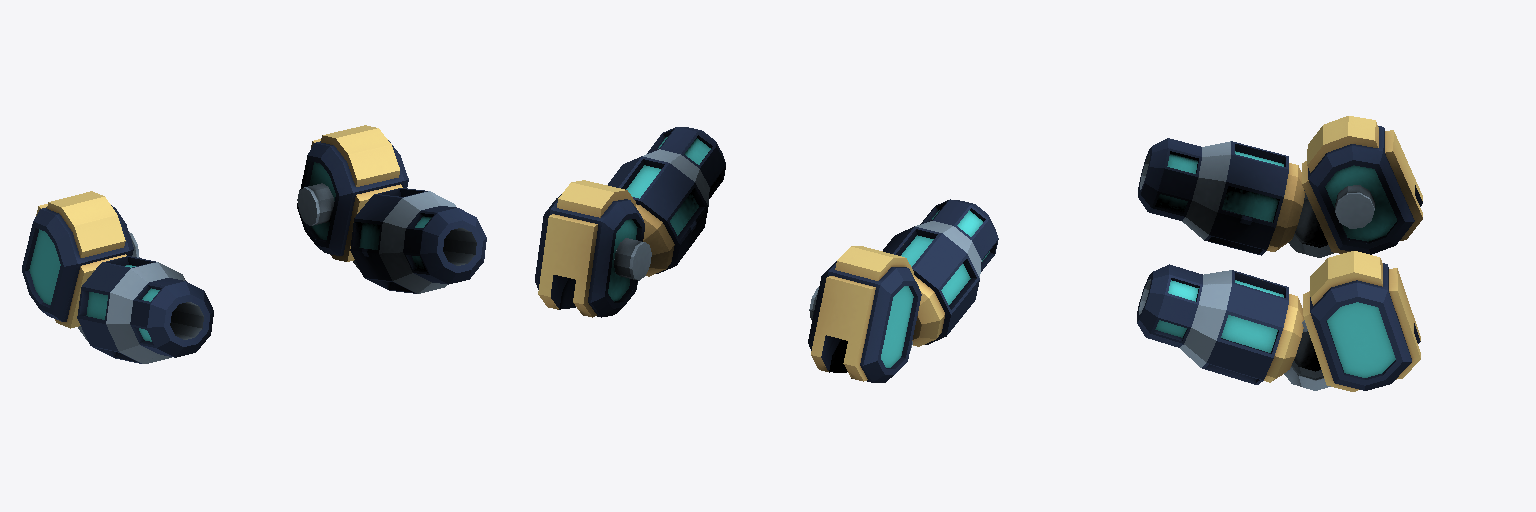
The picture shows the model from 3 angles: view 1: azimuth 30°, elevation 25°; view 2: azimuth 150°, elevation 25°; view 3: azimuth 270°, elevation 25°; orthographic projection.
Parts seen in each view (by area): view 1: Object030, Object031, Object029, Object028; view 2: Object028, Object029, Object031, Object030; view 3: Object031, Object030, Object028, Object029.
Part boxes in pixels (bbox=[...]): Object030: bbox=[77, 256, 213, 363]; Object031: bbox=[350, 188, 486, 293]; Object029: bbox=[22, 191, 139, 328]; Object028: bbox=[297, 125, 408, 261]; Object028: bbox=[535, 180, 651, 317]; Object029: bbox=[808, 246, 921, 382]; Object031: bbox=[608, 127, 725, 284]; Object030: bbox=[883, 199, 998, 350]; Object031: bbox=[1137, 264, 1330, 390]; Object030: bbox=[1138, 138, 1333, 257]; Object028: bbox=[1303, 251, 1420, 391]; Object029: bbox=[1302, 116, 1422, 254].
Size of the model in its own units: 337 by 112 by 232.
Materials: 1 (1 with a texture image).